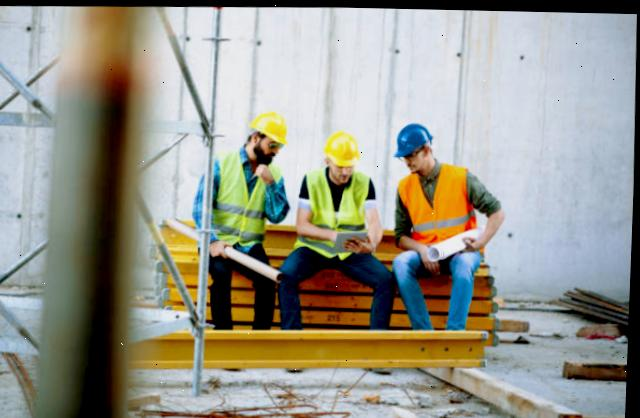helmet: (393, 118, 433, 162), (249, 108, 292, 147), (322, 127, 360, 166)
vest: (212, 155, 276, 251), (400, 170, 479, 245), (306, 168, 368, 251)
